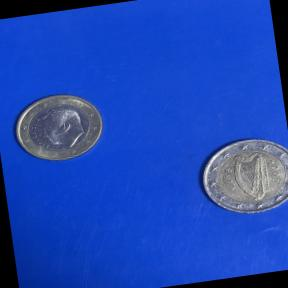1 Euro-B: (7, 84, 114, 170)
2 Euro-B: (185, 128, 288, 225)
